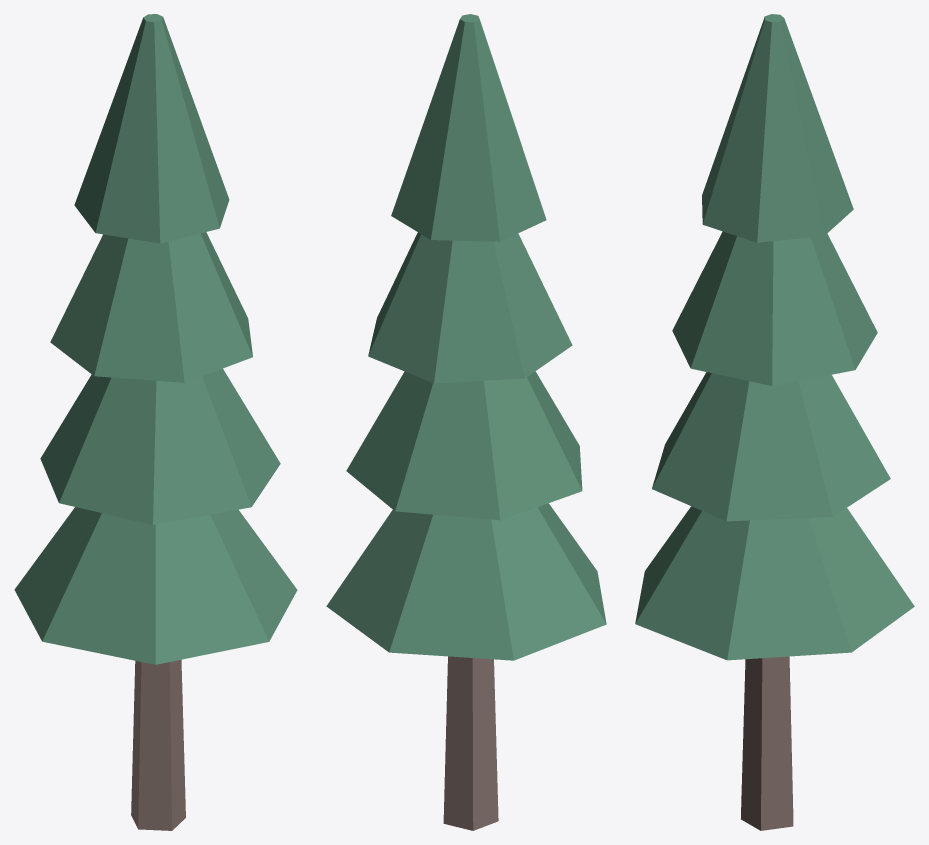
File: arv_pinheiro_4_sem_textura.glb
3 renders of one model, left to right at view 1: azimuth 30°, elevation 25°; view 2: azimuth 150°, elevation 25°; view 3: azimuth 270°, elevation 25°, orthographic.
Visible parts, largest first — view 1: arv_pinheiro_4; view 2: arv_pinheiro_4; view 3: arv_pinheiro_4.
Boxes of the visible parts, bbox=[...] form: arv_pinheiro_4: bbox=[14, 14, 297, 830]; arv_pinheiro_4: bbox=[326, 14, 606, 830]; arv_pinheiro_4: bbox=[635, 14, 914, 830].
Bounding box in the file's own units: 0.8267 × 2.59 × 0.8202.
